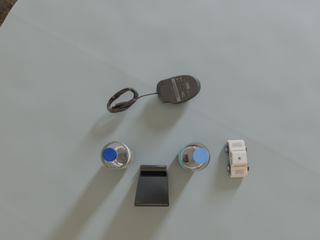bottle: (100, 141, 134, 170), (178, 143, 210, 171)
mouse: (155, 75, 200, 104)
phone: (134, 171, 169, 206)
toy_car: (226, 140, 249, 177)
